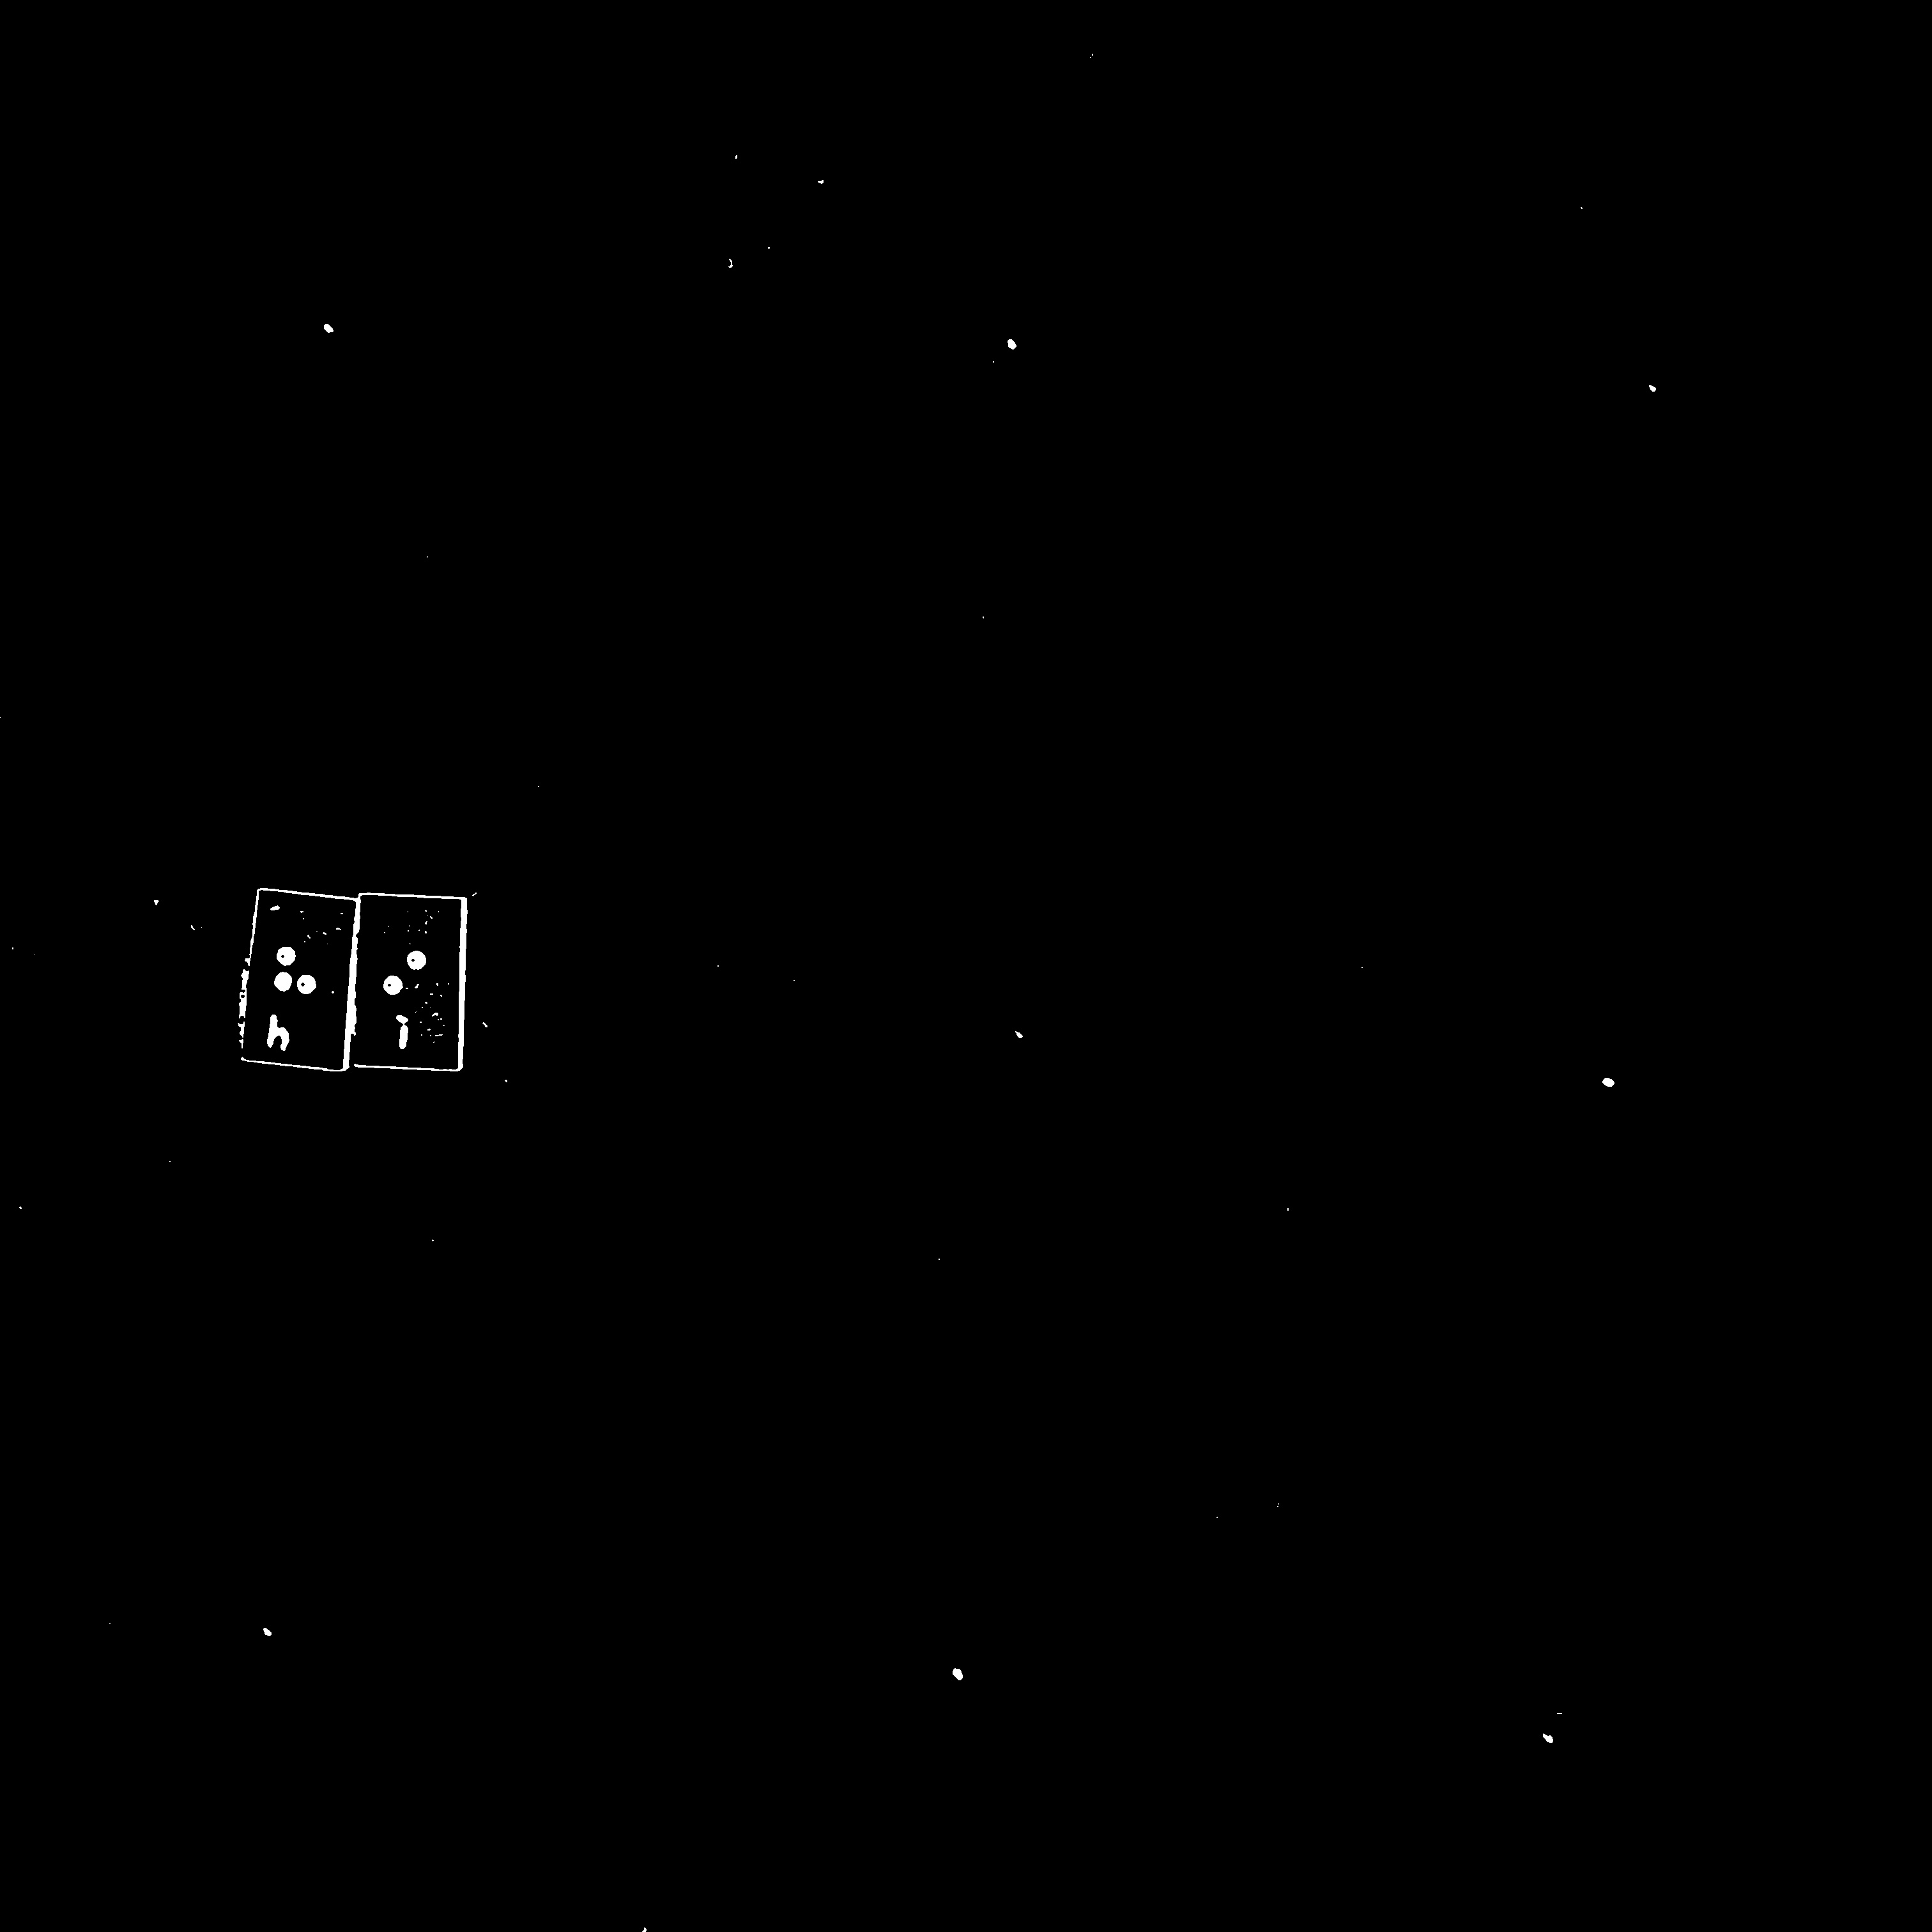h: (268, 940, 329, 1025)
i: (376, 942, 433, 1027)
